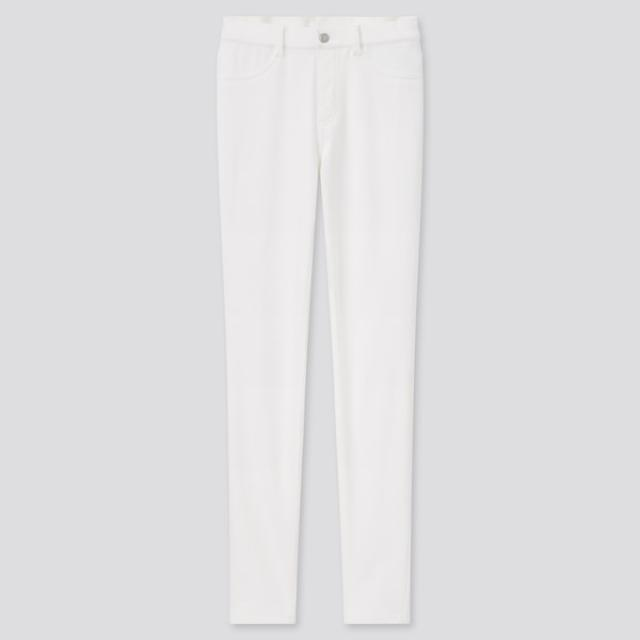long-pants: (218, 15, 429, 631)
